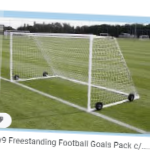goals: (8, 28, 142, 115)
